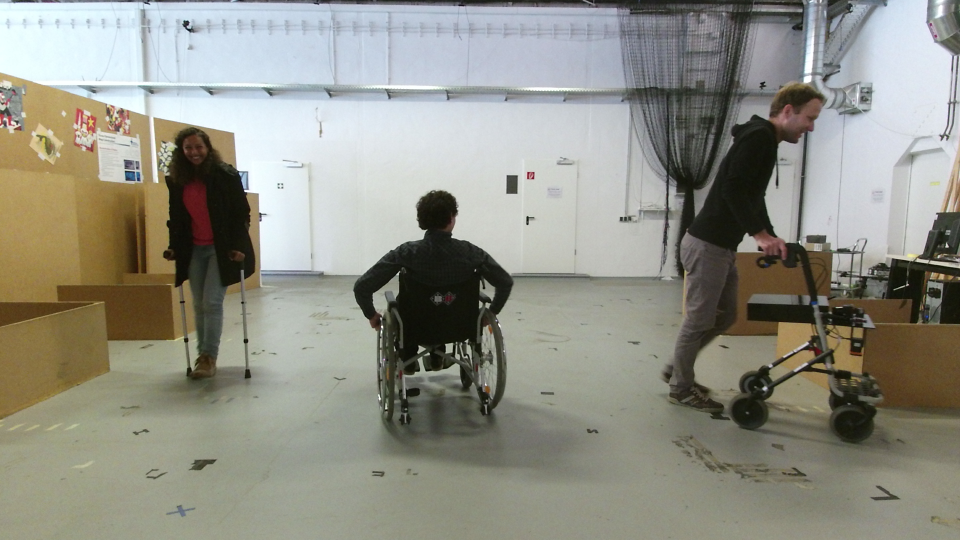crutches: (156, 124, 264, 384)
wheelchair: (352, 184, 517, 437)
